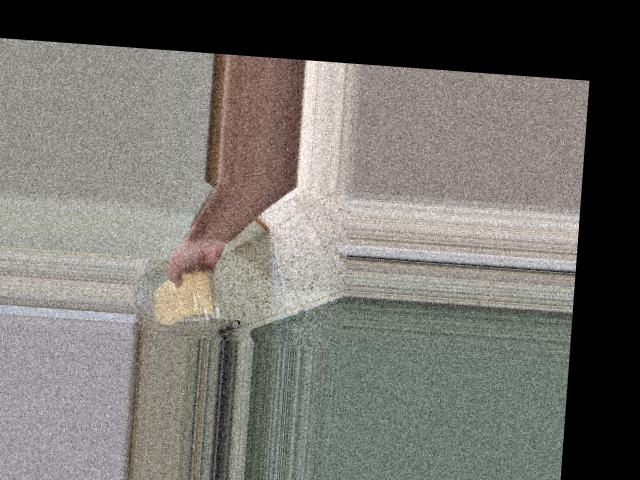cheese: (148, 264, 222, 334)
